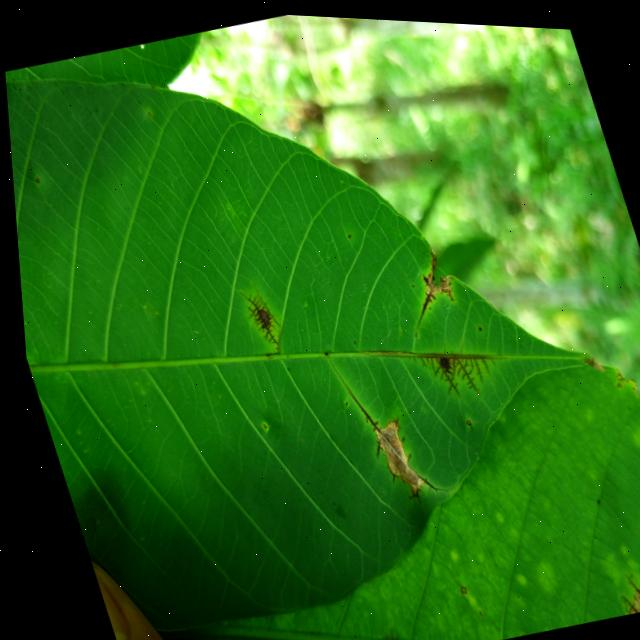Colletotrichum: (450, 579, 458, 589), (459, 413, 464, 419), (611, 374, 615, 379), (469, 604, 472, 608)
Corynespora: (346, 375, 445, 507), (404, 331, 498, 405), (235, 282, 283, 353), (605, 561, 640, 609), (399, 284, 439, 326), (346, 388, 376, 432), (410, 465, 441, 495), (397, 480, 418, 502), (362, 432, 380, 454), (440, 280, 450, 296)
